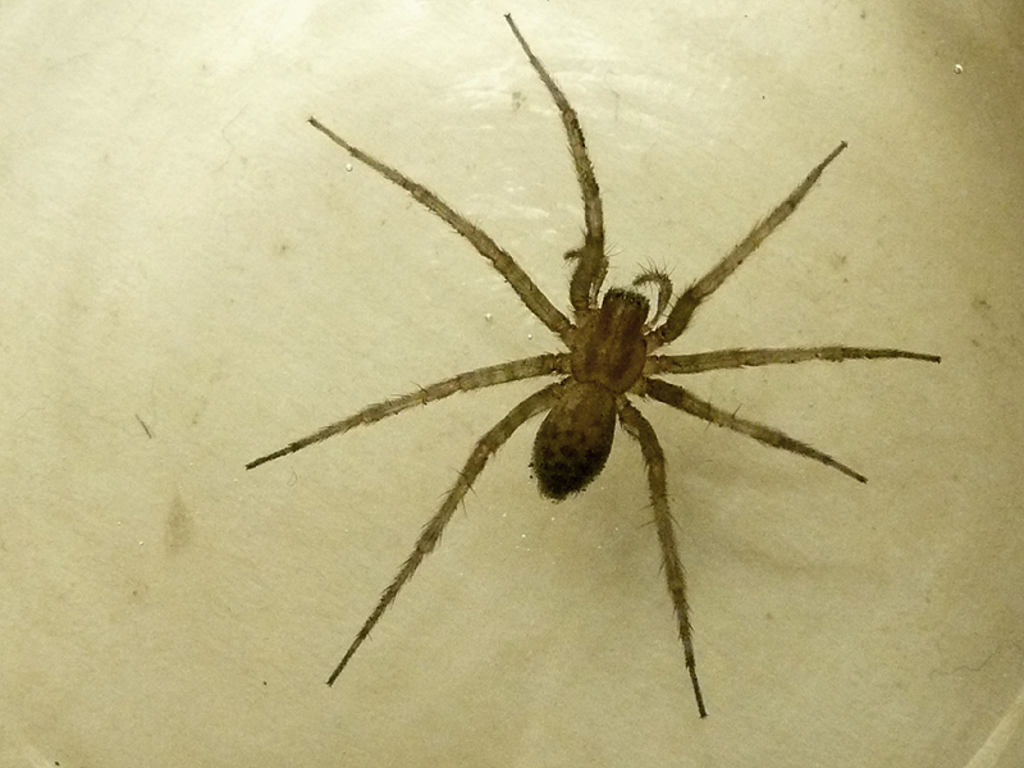person: (459, 241, 659, 504)
